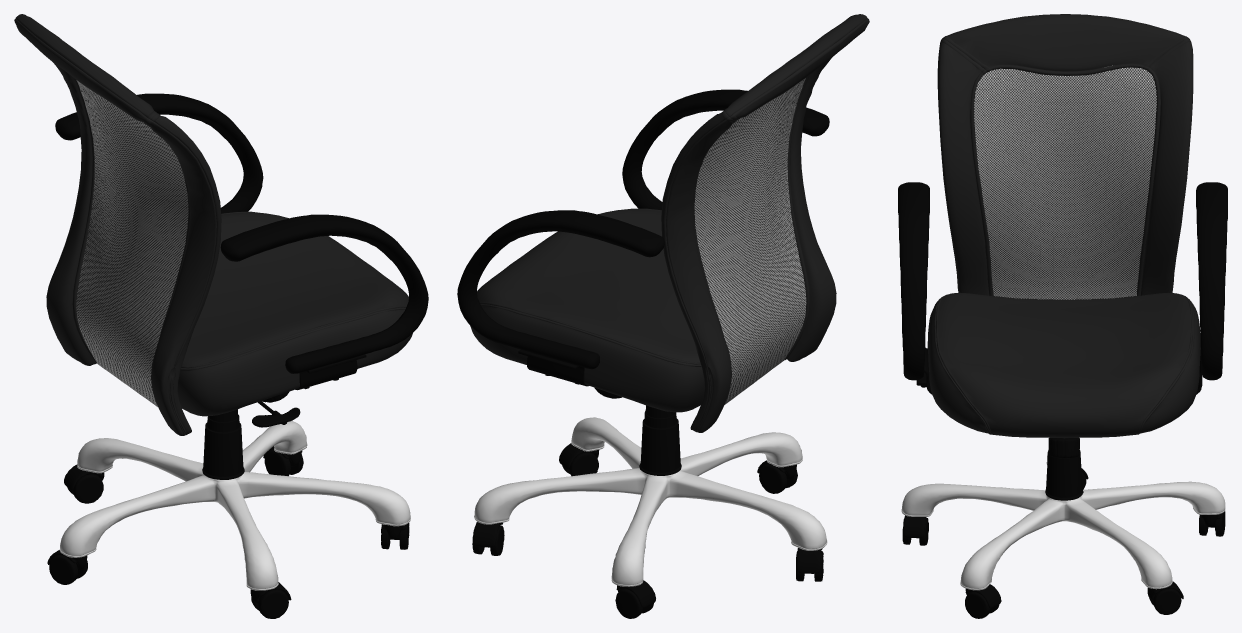
The model's file is chair-transformed.glb.
3 views of the same model, side by side, from view 1: azimuth 30°, elevation 25°; view 2: azimuth 150°, elevation 25°; view 3: azimuth 270°, elevation 25° (orthographic). The views are drawn at different scales.
Visible parts, largest first — view 1: Cylinder01_Matteplastic_0, Box02_Chairback_0; view 2: Cylinder01_Matteplastic_0, Box02_Chairback_0; view 3: Cylinder01_Matteplastic_0, Box02_Chairback_0.
Boxes of the visible parts, x1=… form: Cylinder01_Matteplastic_0: x1=14, y1=14, x2=428, y2=618; Box02_Chairback_0: x1=76, y1=80, x2=188, y2=406; Cylinder01_Matteplastic_0: x1=457, y1=14, x2=869, y2=618; Box02_Chairback_0: x1=694, y1=78, x2=806, y2=404; Cylinder01_Matteplastic_0: x1=898, y1=14, x2=1227, y2=618; Box02_Chairback_0: x1=974, y1=65, x2=1156, y2=299.
Bounding box in the file's own units: 65.24 × 102 × 63.65.
2 materials, 2 textured.
